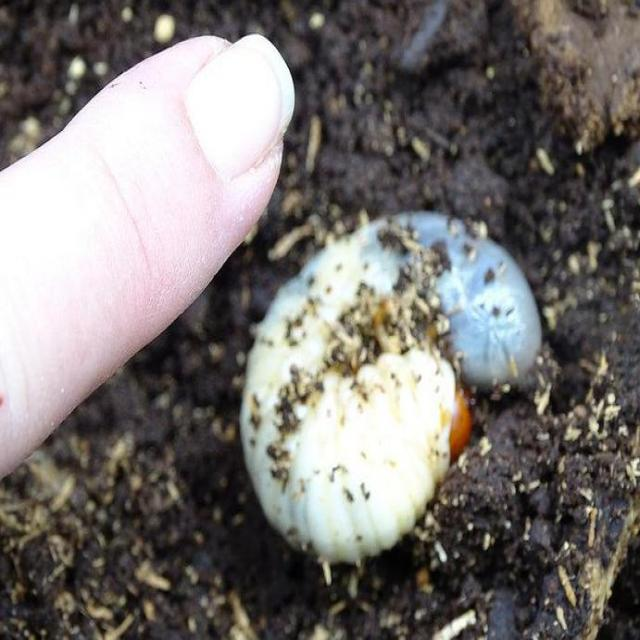Grub-Adult-: (236, 197, 570, 579)
